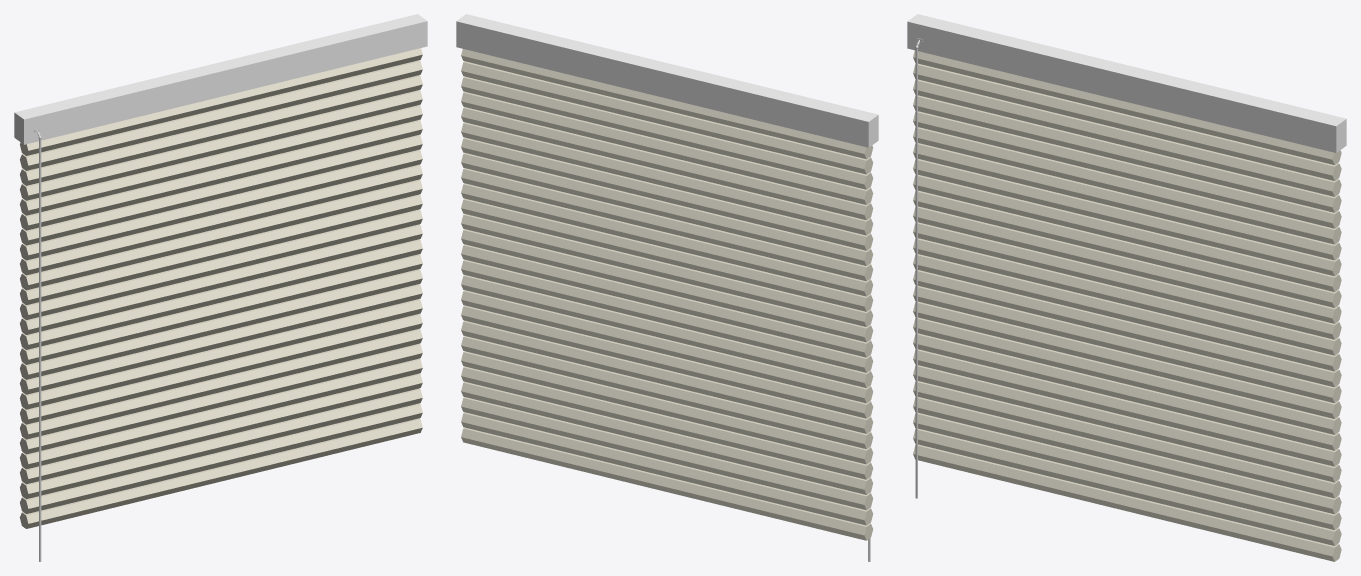
File: HoneyComb2.fbx
3 renders of one model, left to right at view 1: azimuth 30°, elevation 25°; view 2: azimuth 150°, elevation 25°; view 3: azimuth 330°, elevation 25°, orthographic. The views are drawn at different scales.
Visible parts, largest first — view 1: Cylinder, VenetianFrame, Venetian_stick; view 2: Cylinder, VenetianFrame; view 3: Cylinder, VenetianFrame, Venetian_stick.
Part boxes in pixels (bbox=[...]): Cylinder: bbox=[19, 48, 422, 528]; VenetianFrame: bbox=[14, 14, 427, 144]; Venetian_stick: bbox=[34, 129, 41, 561]; Cylinder: bbox=[461, 49, 873, 540]; VenetianFrame: bbox=[456, 14, 878, 147]; Cylinder: bbox=[913, 50, 1341, 561]; VenetianFrame: bbox=[907, 14, 1346, 152]; Venetian_stick: bbox=[915, 38, 922, 498].
Bounding box in the file's own units: 100 × 105 × 5.99.
